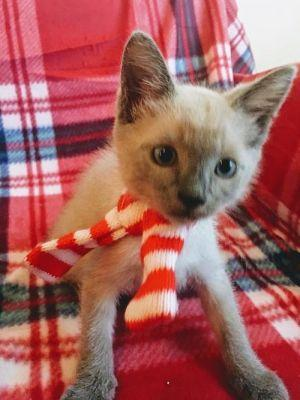siamese: (108, 24, 300, 232)
